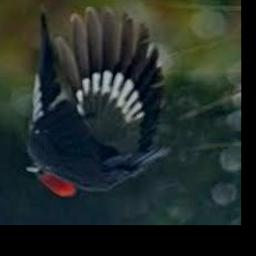Woodpecker: (26, 3, 171, 198)
